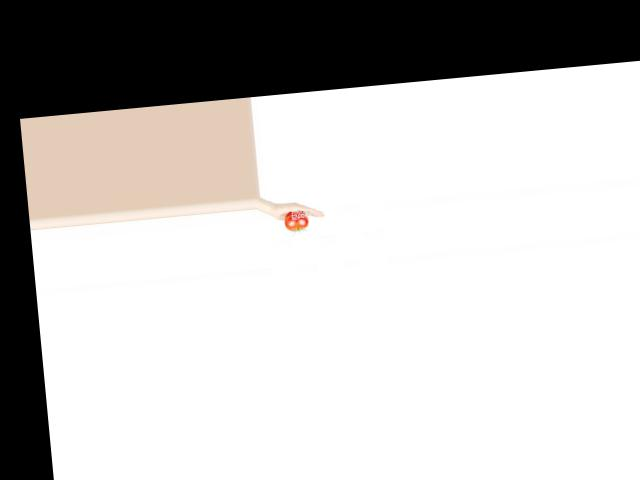tomato: (283, 209, 309, 232)
